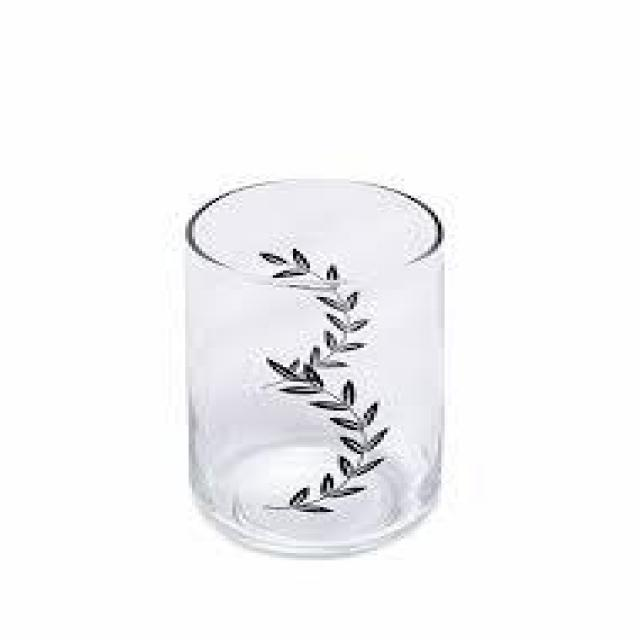non-organic waste: (182, 173, 451, 556)
